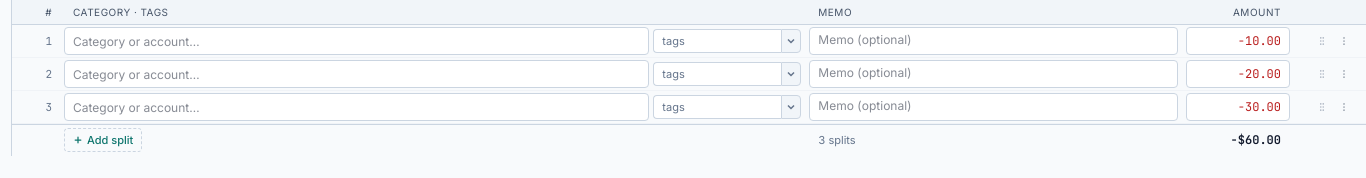
Scenario: SplitsGrid — reorder without a drag › offers Move up / Move down in the row menu, bounded at the ends
This screenshot has width=1366, height=178.
Step 1. Click the button named "Actions for posting 1" → (1344, 41), box x1=1334 y1=31 x2=1354 y2=51
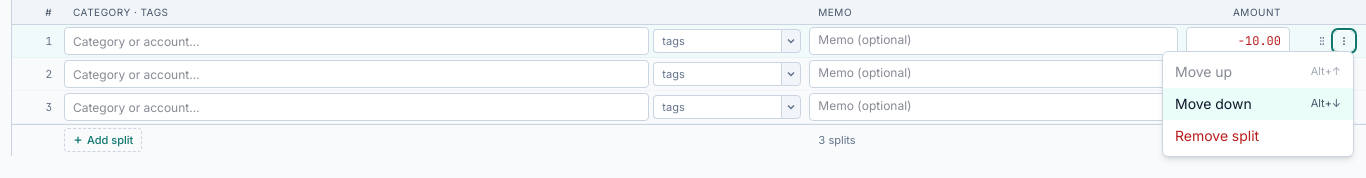
Result: the menu item "Move up Alt+↑" is disabled at x1=1163 y1=56 x2=1353 y2=88
Result: the menu item "Move down Alt+↓" is enabled at x1=1163 y1=88 x2=1353 y2=120
